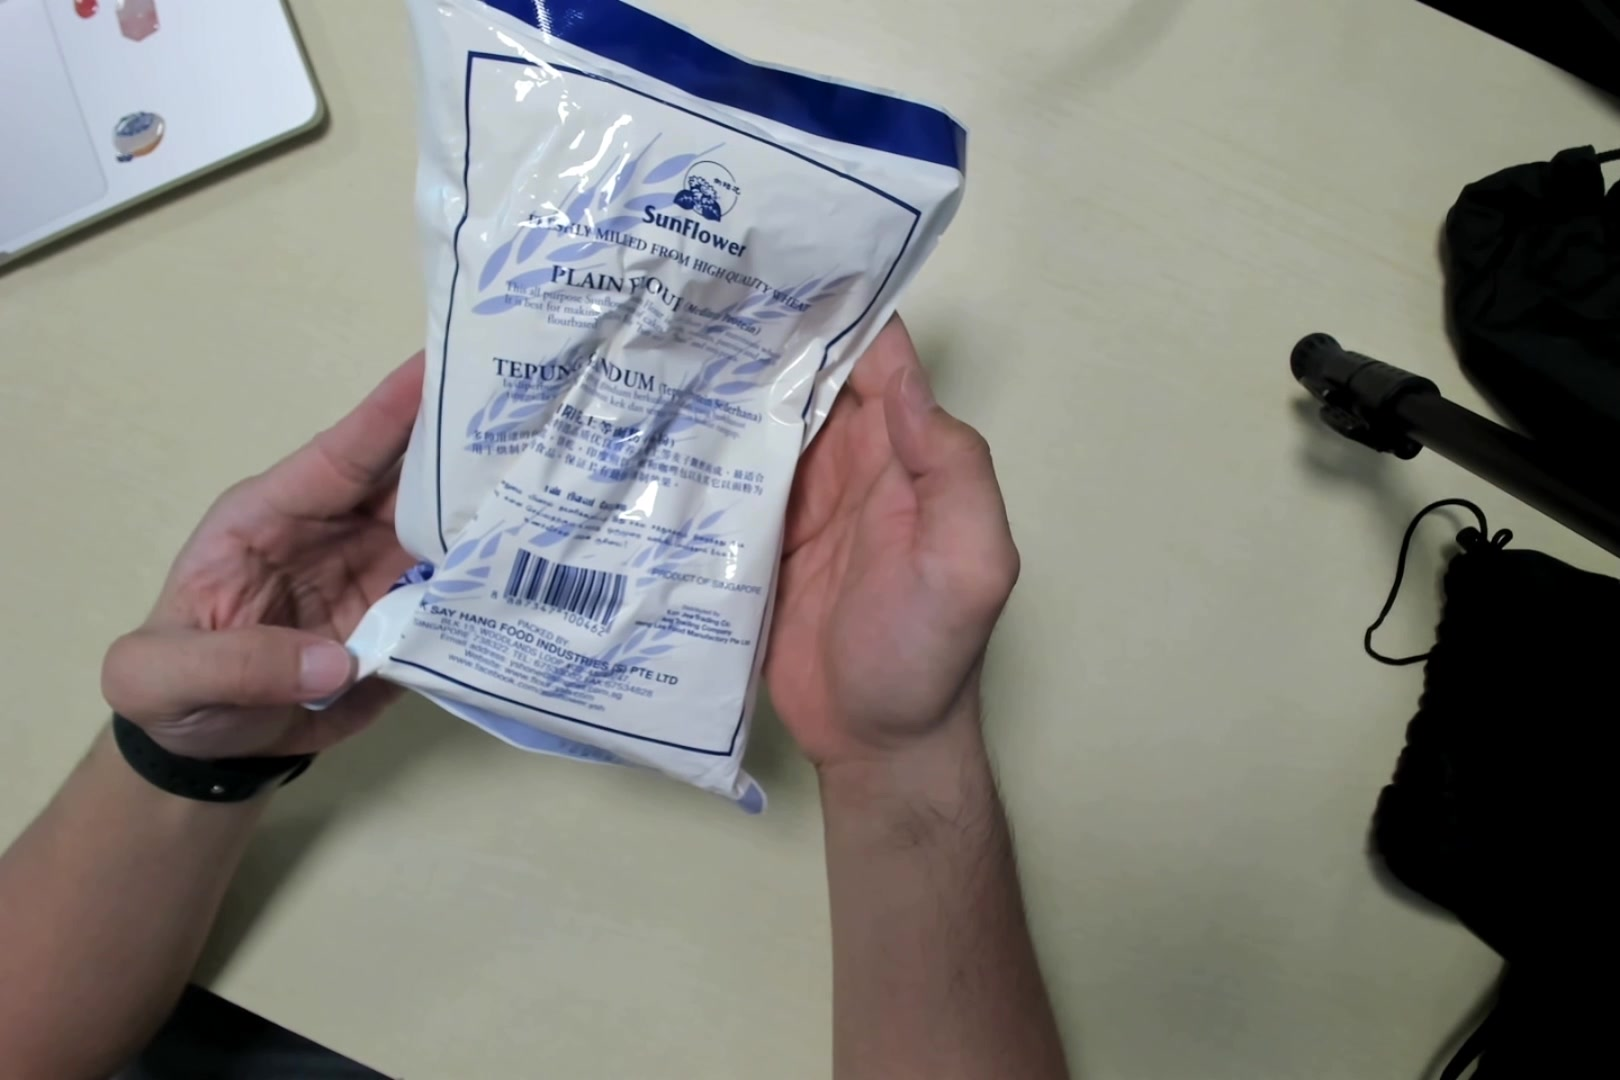Flour_500-599g_NonHalal_NonHealthy: (395, 17, 862, 790)
